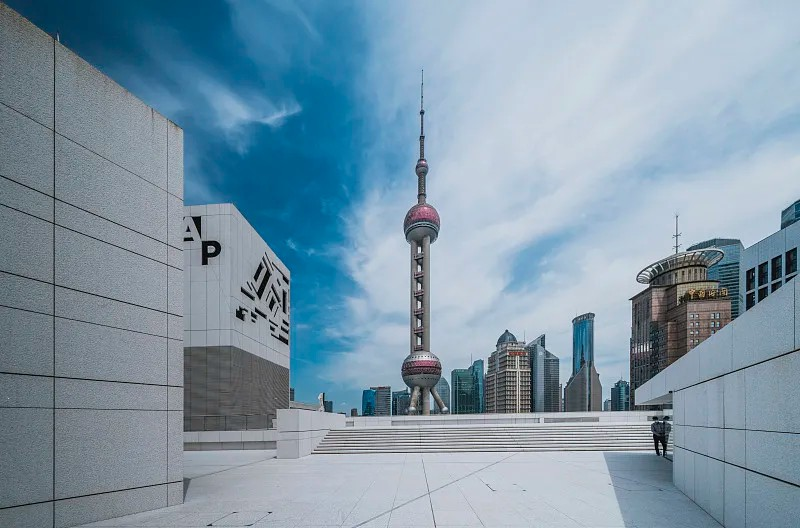Oriental: (401, 70, 449, 414)
